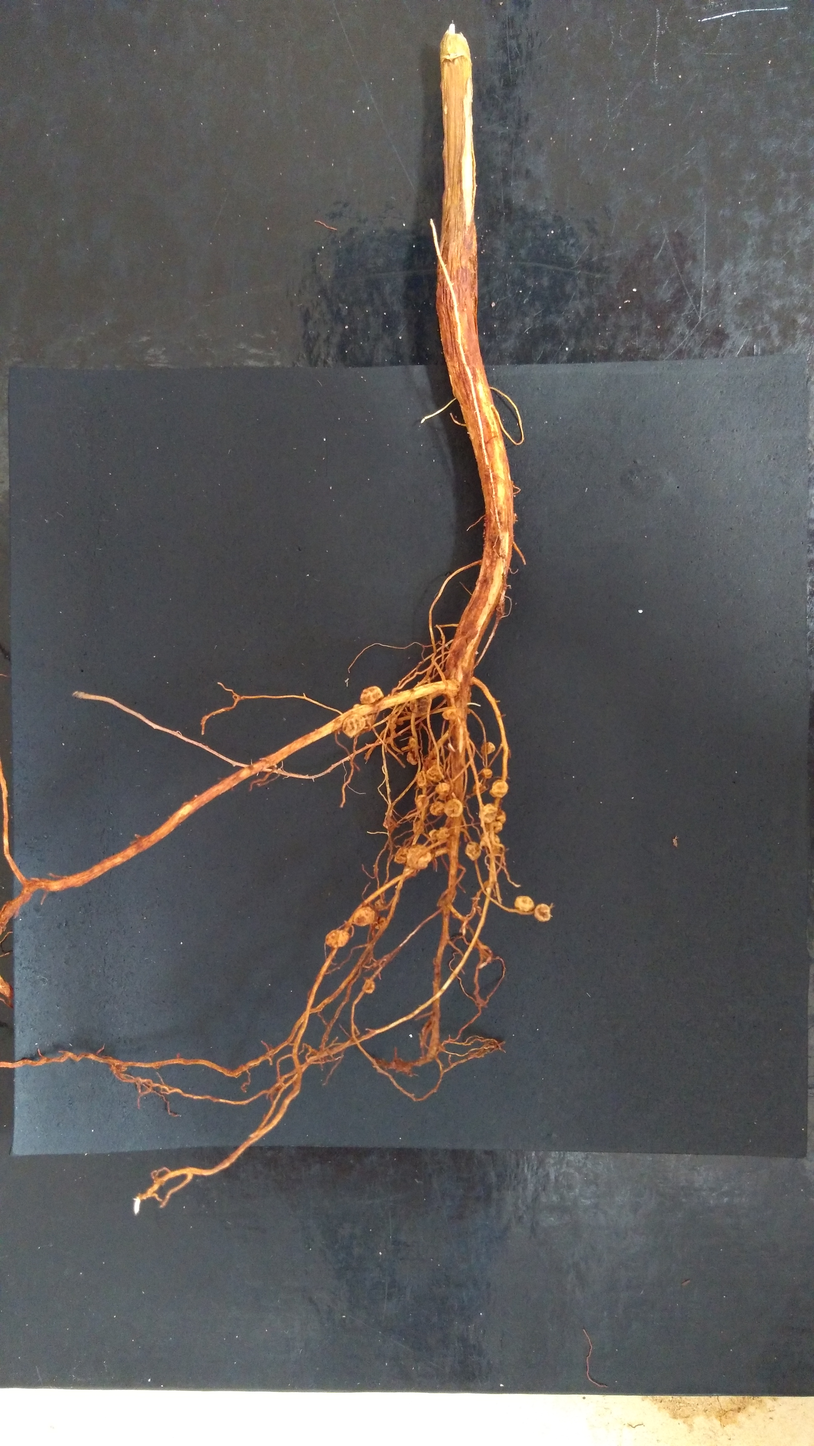nodule: (405, 843, 433, 871), (341, 712, 366, 739), (324, 928, 354, 948), (352, 905, 377, 929), (358, 684, 386, 705), (352, 703, 376, 727), (488, 778, 511, 800), (532, 900, 552, 925), (442, 797, 464, 819), (512, 893, 534, 914), (478, 802, 498, 825), (425, 762, 445, 784), (463, 840, 483, 862), (415, 769, 432, 791), (479, 832, 502, 847), (360, 977, 377, 996), (434, 781, 451, 798), (393, 845, 408, 864), (414, 792, 430, 809), (480, 741, 495, 757), (429, 800, 444, 816), (419, 692, 431, 712), (442, 707, 458, 720), (412, 819, 425, 835), (406, 750, 418, 767), (436, 826, 450, 840), (482, 766, 495, 781), (472, 781, 485, 796), (496, 809, 507, 825), (374, 898, 387, 911), (490, 821, 503, 833), (409, 698, 419, 713), (429, 828, 438, 843), (408, 737, 418, 747), (389, 713, 398, 724), (389, 722, 397, 730)
